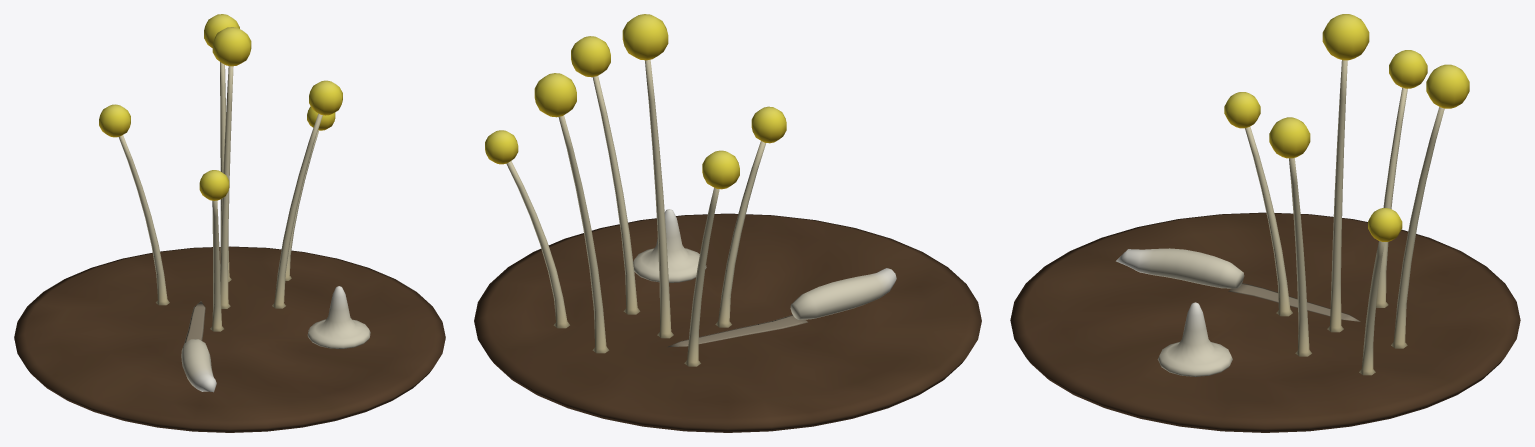
Rendered from Dictyostelium.fbx.
The picture shows the model from 3 angles, left to right: view 1: azimuth 30°, elevation 25°; view 2: azimuth 150°, elevation 25°; view 3: azimuth 270°, elevation 25°; orthographic projection. The views are drawn at different scales.
Parts seen in each view (by area): view 1: Dictyostelium; view 2: Dictyostelium; view 3: Dictyostelium.
Boxes of the visible parts, left/top/right/bottom form: Dictyostelium: left=14, top=14, right=445, bottom=432; Dictyostelium: left=474, top=14, right=981, bottom=432; Dictyostelium: left=1010, top=14, right=1520, bottom=432.
Size of the model in its own units: 1.6 by 1.15 by 1.6.
